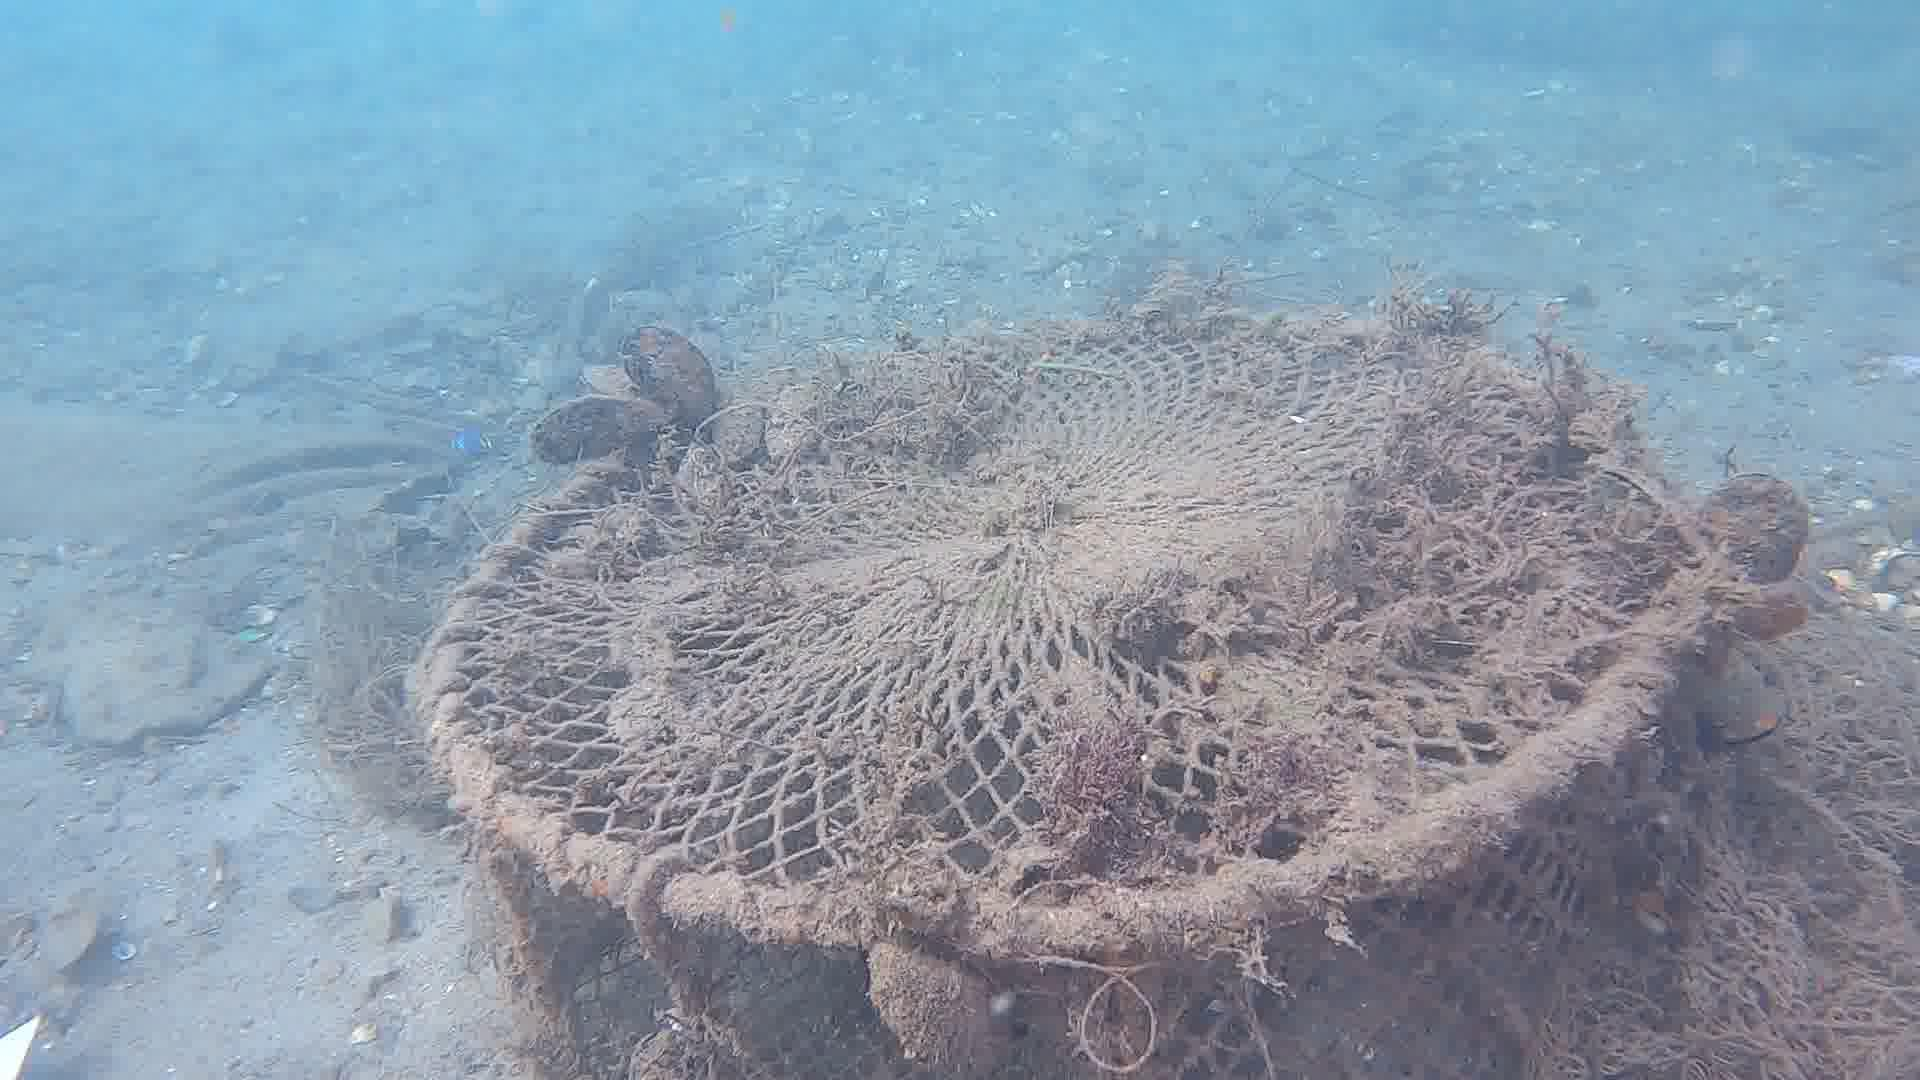circular fish trap: (409, 309, 1705, 1080)
